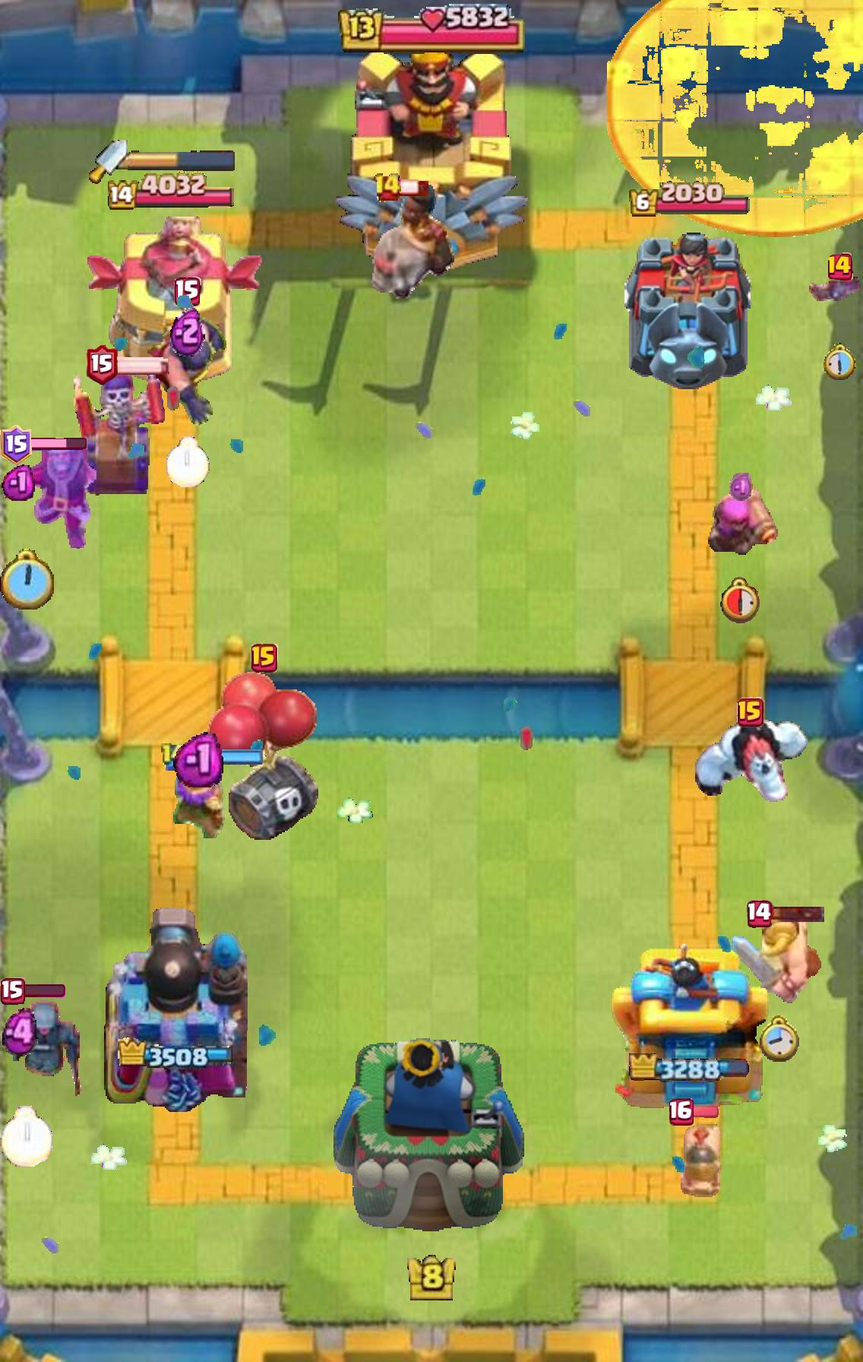bar: (114, 356, 172, 375), (769, 904, 825, 923), (11, 438, 86, 451), (14, 984, 65, 998), (399, 179, 429, 197), (690, 1106, 719, 1118)
bar-level: (0, 425, 32, 466), (86, 345, 118, 385), (373, 173, 402, 203), (737, 697, 765, 727), (174, 277, 201, 307), (251, 644, 278, 673), (827, 252, 853, 281), (747, 900, 773, 928), (669, 1098, 694, 1126), (0, 977, 24, 1005)
